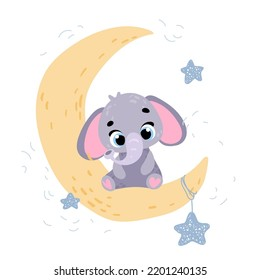elephant: (76, 89, 189, 195)
moon: (28, 23, 209, 224)
